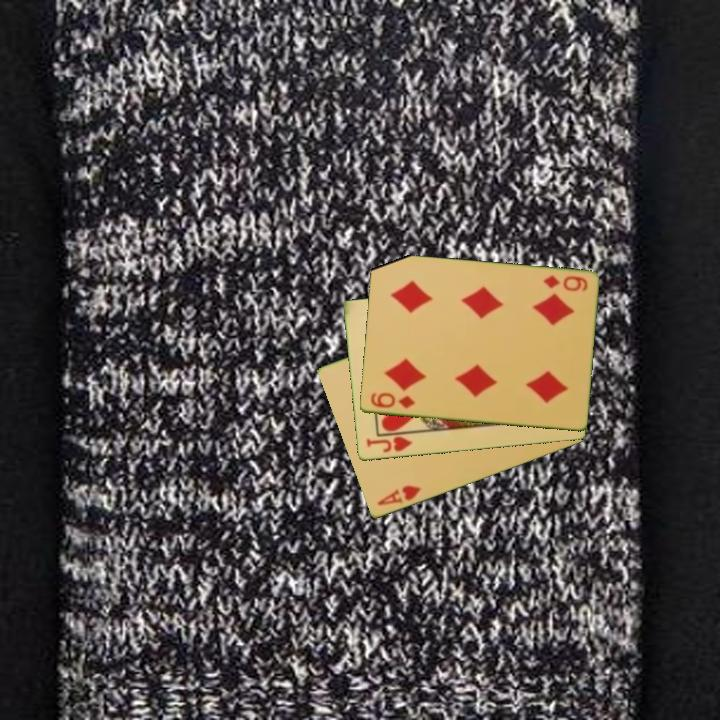6d: (367, 389, 418, 412), (539, 272, 590, 295)
Ah: (373, 482, 424, 509)
Jh: (363, 429, 418, 456)
